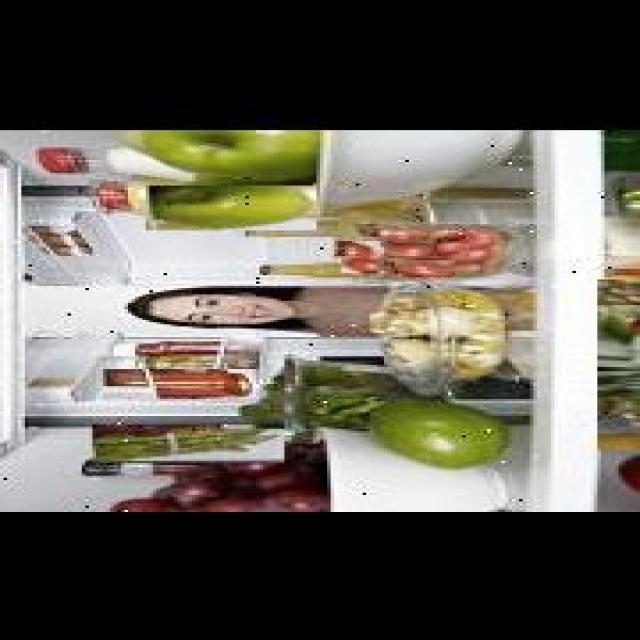apple: (138, 128, 330, 181), (148, 176, 318, 227)
asparagus: (93, 422, 284, 461)
avocado: (357, 395, 514, 469)
bell_pepper: (597, 278, 640, 340)
tomato: (395, 258, 455, 275), (334, 239, 380, 256), (342, 254, 381, 271), (388, 243, 438, 256)
tomato_sauce: (105, 367, 261, 397)
